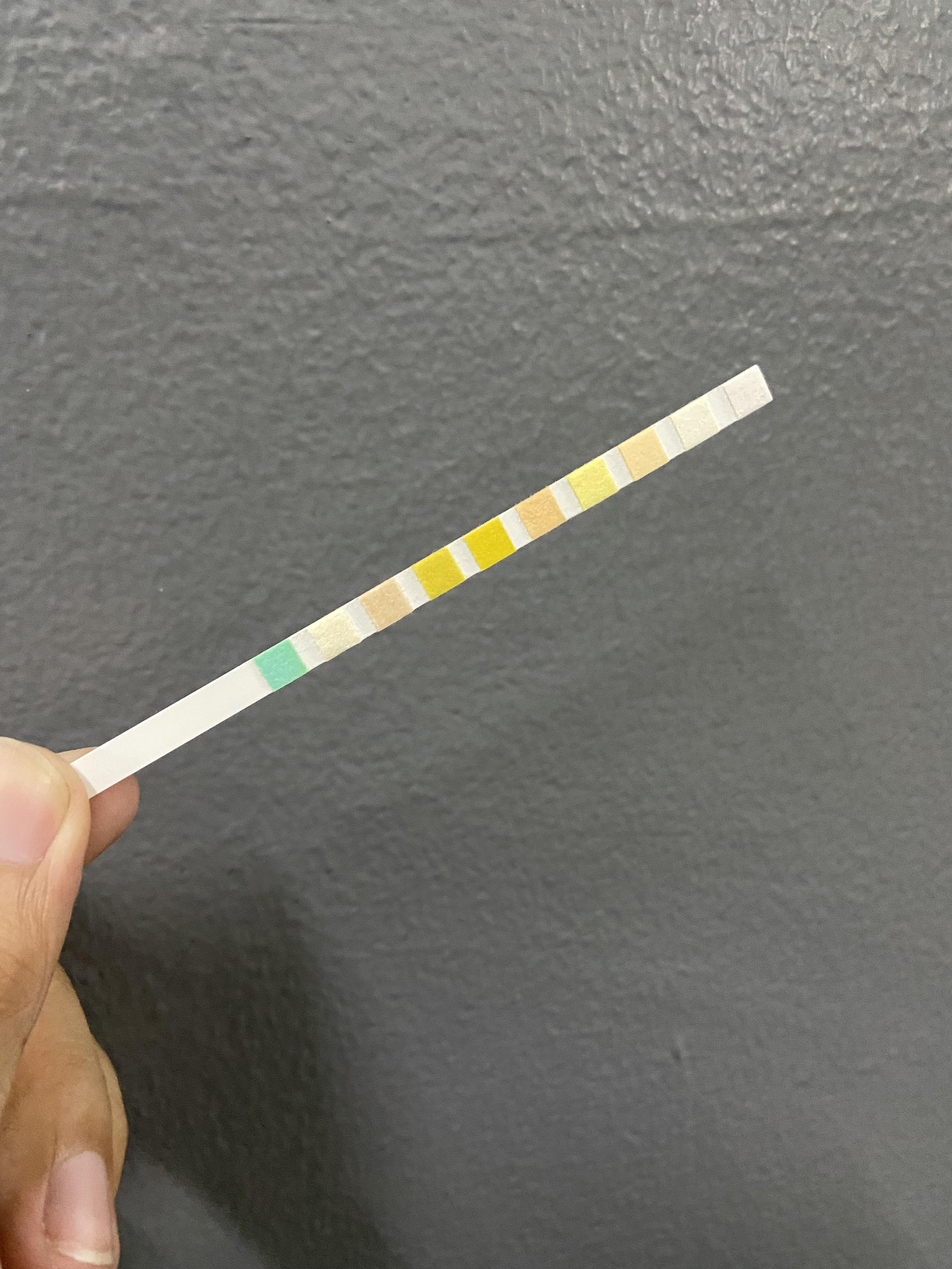Bilirubin: (320, 618, 348, 649)
Blood: (476, 528, 502, 560)
Glucose: (268, 650, 294, 681)
Ketone: (374, 588, 399, 620)
Leukocytes: (735, 376, 760, 408)
Nitrite: (682, 408, 707, 439)
Protein: (579, 469, 604, 499)
SpGravity: (427, 557, 452, 589)
Urobilinogen: (630, 438, 658, 468)
pH: (528, 498, 554, 528)
strip: (71, 365, 773, 800)
